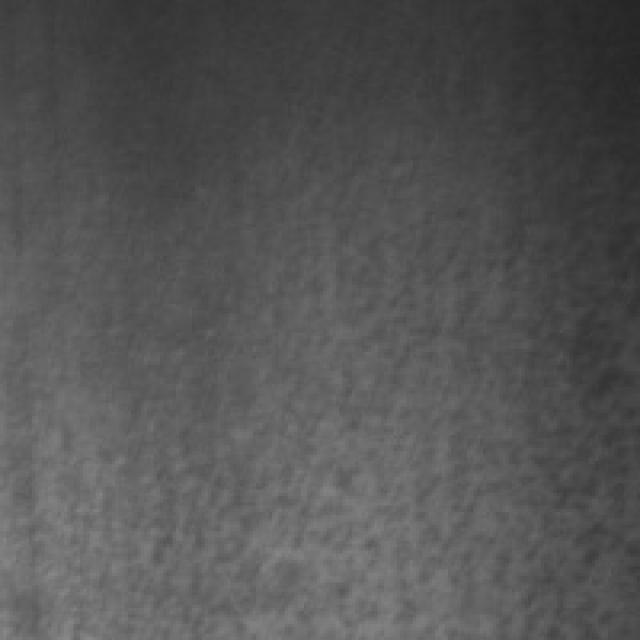pitted_surface: (106, 150, 634, 630)
